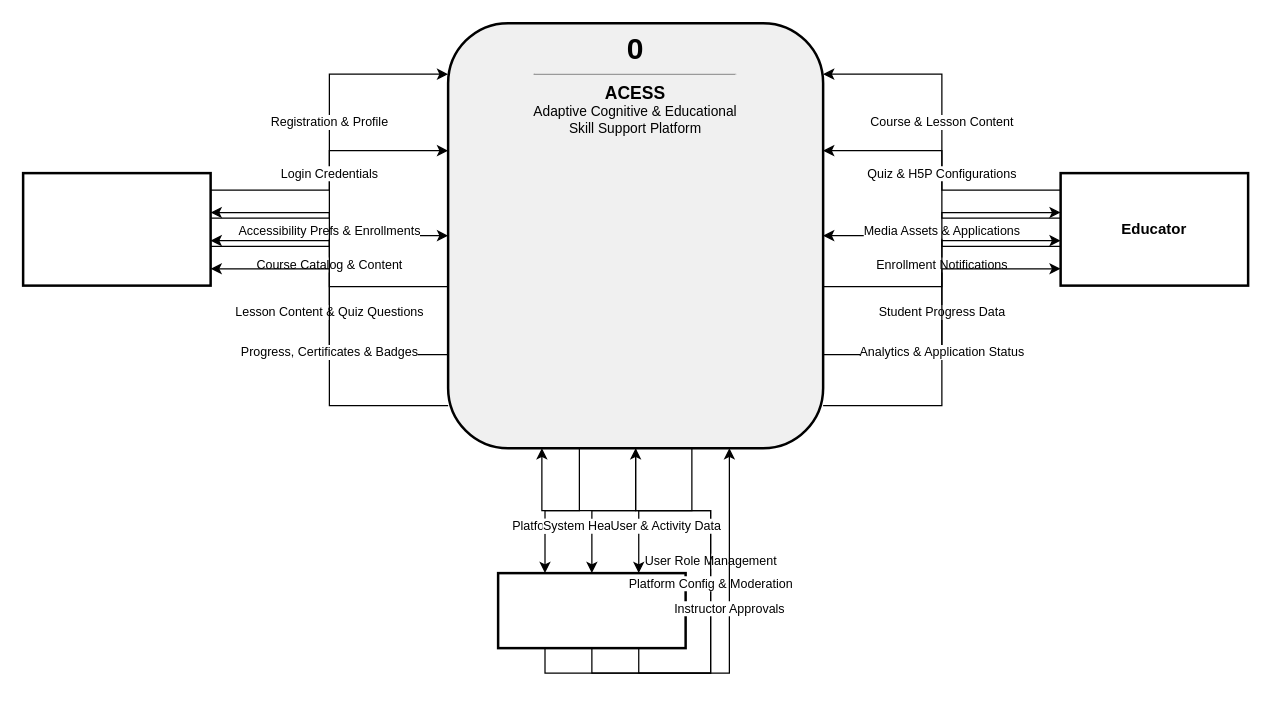
Some shapes in this 1270 by 705 pixel diagram are drawn without their labels. Here are the shapes that lost their labels. From the top down, the centre of each, then its label:
At [116,228]: "Learner".
At [591,610]: "Administrator".
